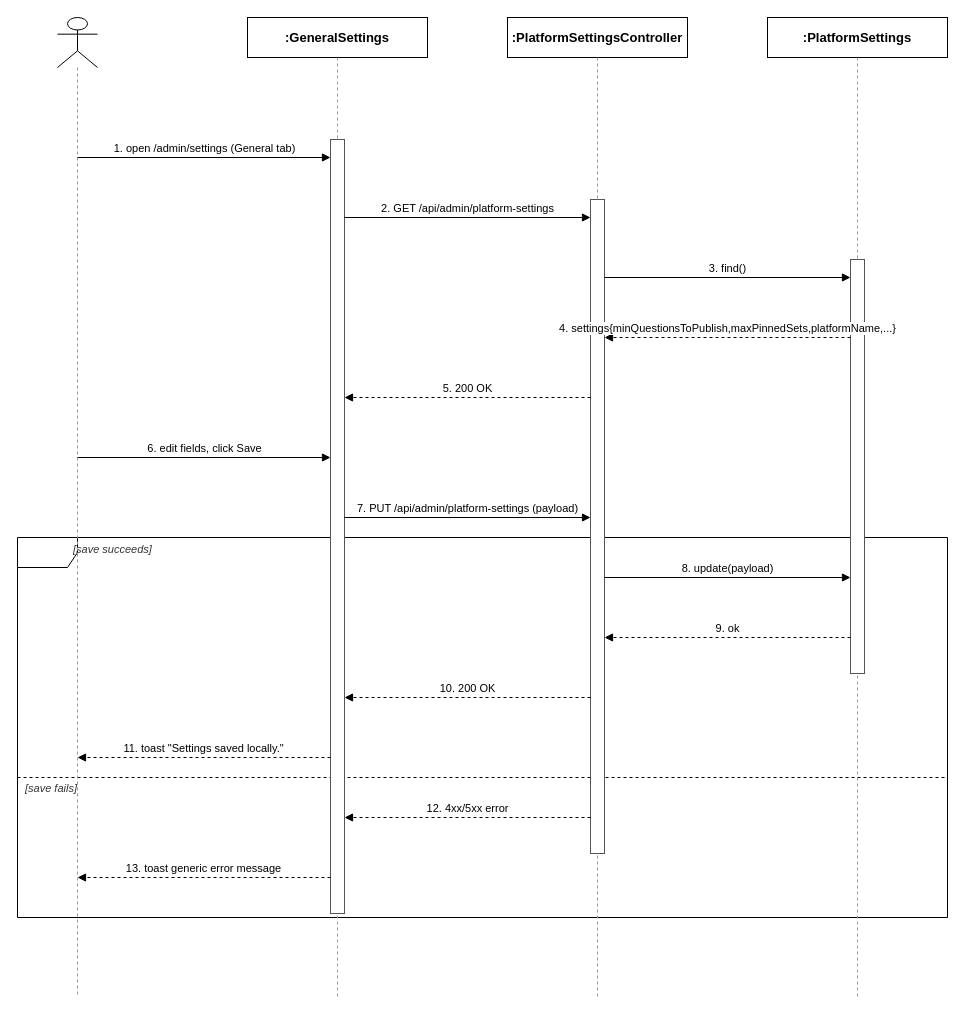
This 966x1016 diagram has some shape labels left out. Here are the shapes that lost their labels. From the top down, the box of each, then its label:
(56, 16, 98, 68): Administrator
(16, 536, 948, 918): alt
